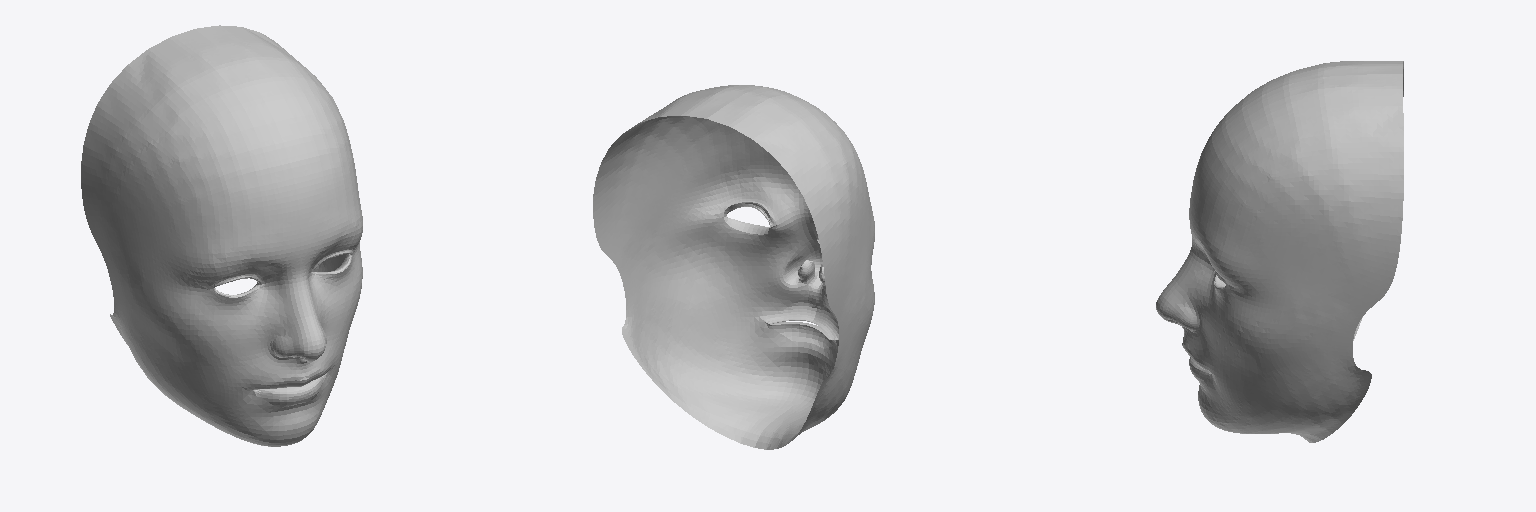
File: starter.v1.step3.face.zRemeshed.obj
The picture shows the model from 3 angles: view 1: azimuth 30°, elevation 25°; view 2: azimuth 150°, elevation 25°; view 3: azimuth 270°, elevation 25°; orthographic projection.
Visible parts, largest first — view 1: Group1; view 2: Group1; view 3: Group1.
Part boxes in pixels (left/top/right/bottom): Group1: left=81, top=25, right=362, bottom=446; Group1: left=593, top=85, right=874, bottom=449; Group1: left=1156, top=61, right=1403, bottom=442.
Bounding box in the file's own units: 15.29 × 23.04 × 14.23.